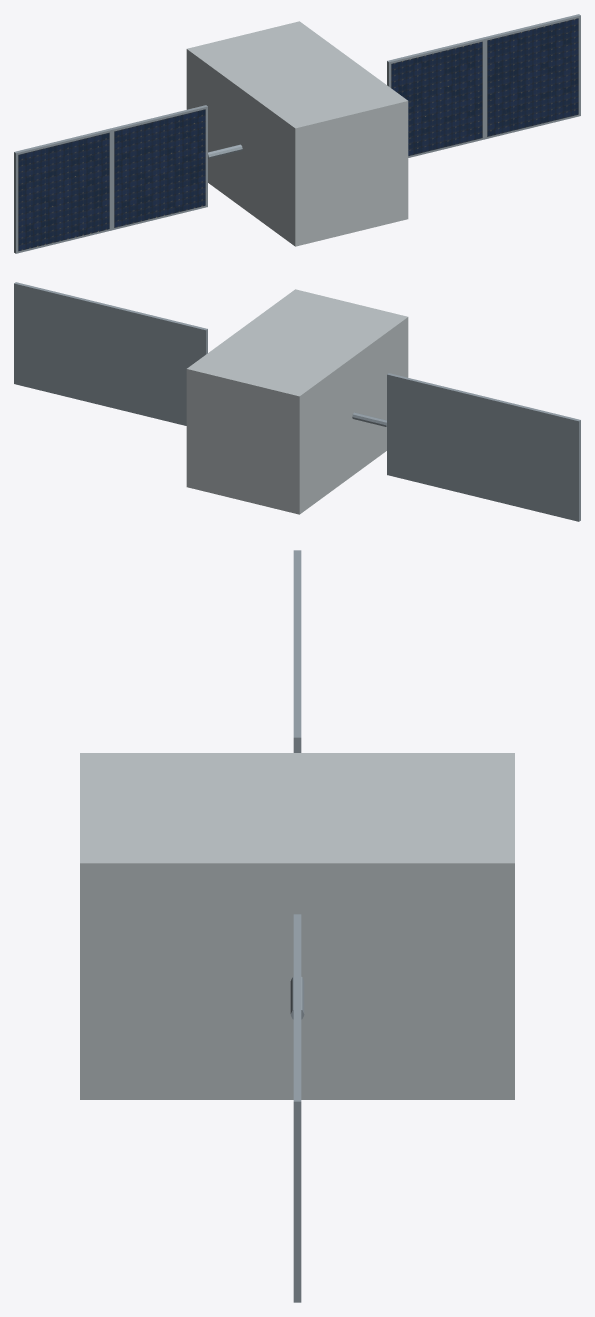
File: ref-astro200-bcp-100-37222.glb
3 renders of one model, top to bottom at view 1: azimuth 30°, elevation 25°; view 2: azimuth 150°, elevation 25°; view 3: azimuth 270°, elevation 25°, orthographic. The views are drawn at different scales.
Visible parts, largest first — view 1: Spacecraft body, Photovoltaic laminates (×4), Array frame (×4); view 2: Array frame (×4), Spacecraft body; view 3: Spacecraft body, Array frame (×2).
Part boxes in pixels (box(x1,y1,x2,y2)): Spacecraft body: box(186, 21, 408, 246); Photovoltaic laminates (×4): box(18, 18, 578, 251); Array frame (×4): box(14, 14, 580, 253); Array frame (×4): box(14, 282, 580, 521); Spacecraft body: box(186, 289, 408, 514); Spacecraft body: box(80, 753, 514, 1099); Array frame (×2): box(293, 644, 301, 1302).
Size of the model in its own units: 3 by 0.6 by 1.
Materials: 3 (1 with a texture image).
